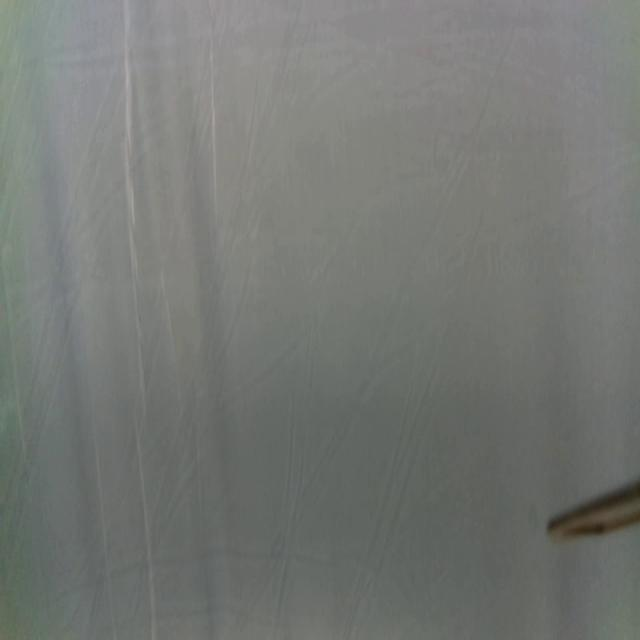crease: (122, 0, 151, 413), (92, 394, 117, 638), (132, 422, 158, 635), (3, 275, 27, 457), (209, 33, 221, 224)
